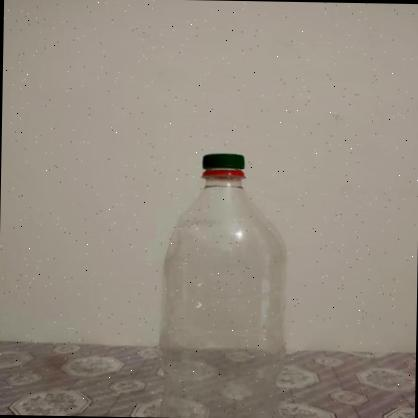bottle: (156, 152, 288, 418)
cap: (202, 154, 246, 176)
